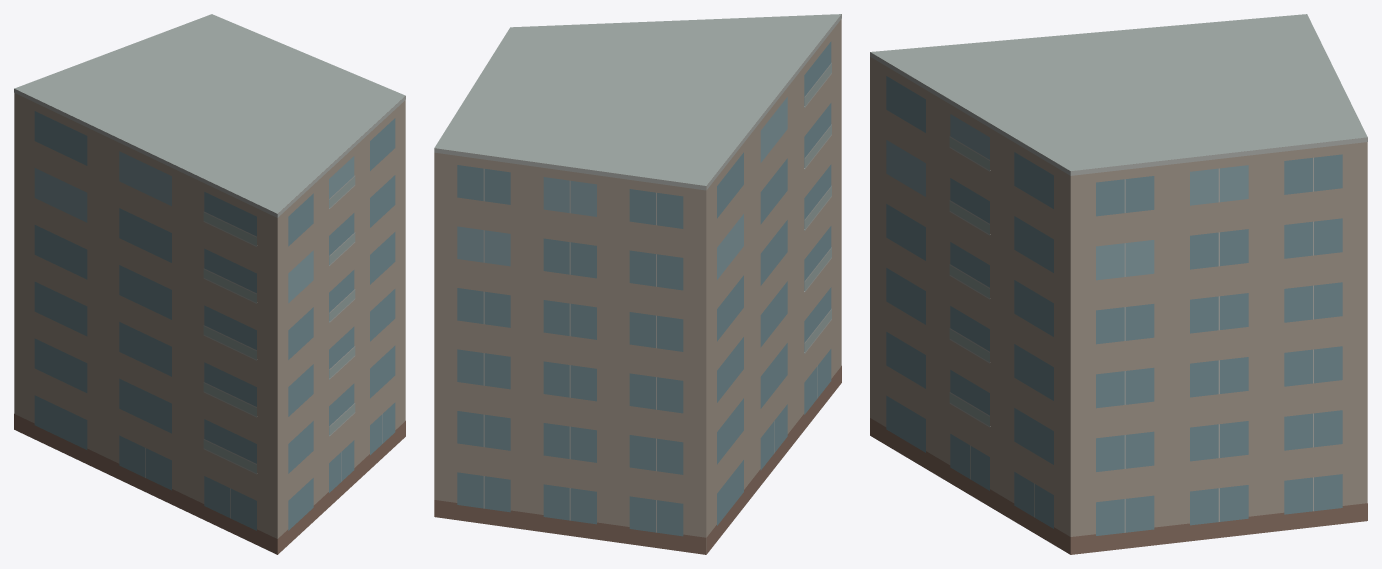
File: residential-e634e8b2-5588-4ca7-aa74-7f1ba3869b27.glb
3 views of the same model, side by side, from view 1: azimuth 30°, elevation 25°; view 2: azimuth 150°, elevation 25°; view 3: azimuth 270°, elevation 25° (orthographic). The views are drawn at different scales.
Parts seen in each view (by area): view 1: residential-e634e8b2-5588-4ca7-aa74-7f1ba3869b27.tmp; view 2: residential-e634e8b2-5588-4ca7-aa74-7f1ba3869b27.tmp; view 3: residential-e634e8b2-5588-4ca7-aa74-7f1ba3869b27.tmp.
Boxes of the visible parts, box(x1,y1,x2,y2) form: residential-e634e8b2-5588-4ca7-aa74-7f1ba3869b27.tmp: box(14, 14, 405, 554); residential-e634e8b2-5588-4ca7-aa74-7f1ba3869b27.tmp: box(434, 14, 841, 554); residential-e634e8b2-5588-4ca7-aa74-7f1ba3869b27.tmp: box(870, 14, 1367, 554).
Bounding box in the file's own units: 17.56 × 19.97 × 23.49.
